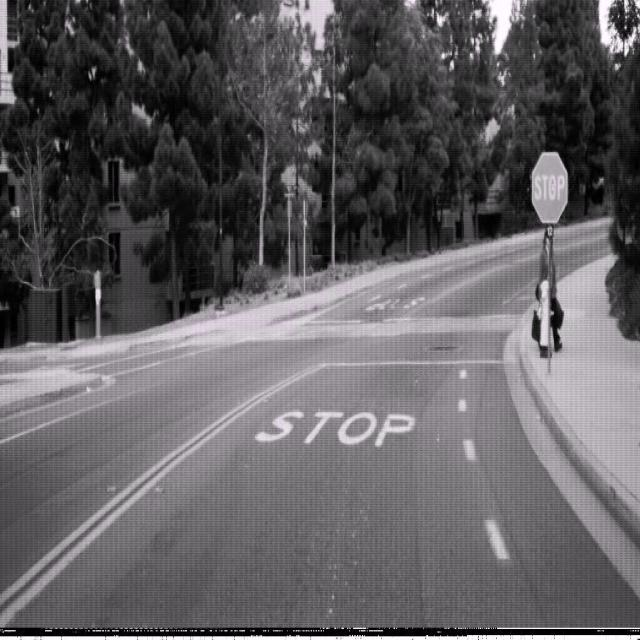stop: (531, 151, 568, 224)
